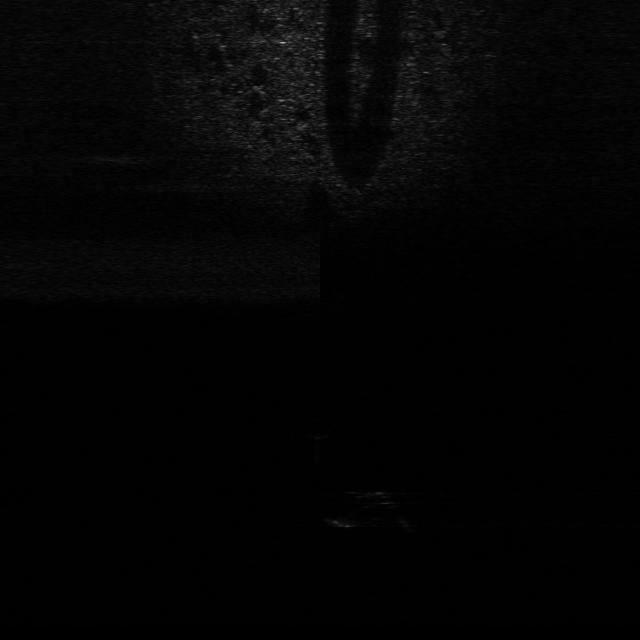ball: (303, 419, 331, 441)
tyre: (326, 484, 400, 532)
